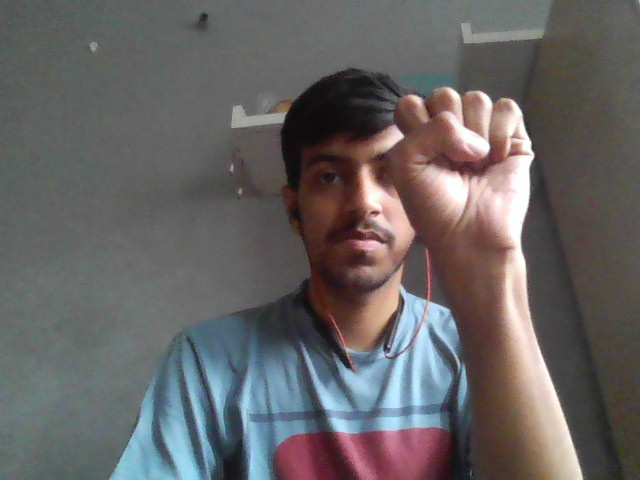Yes: (383, 87, 541, 253)
